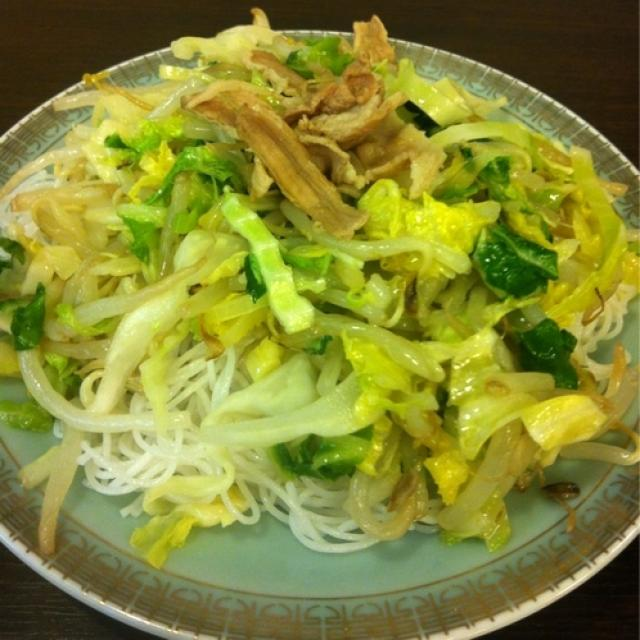鸡蛋料理: (190, 83, 548, 616)
